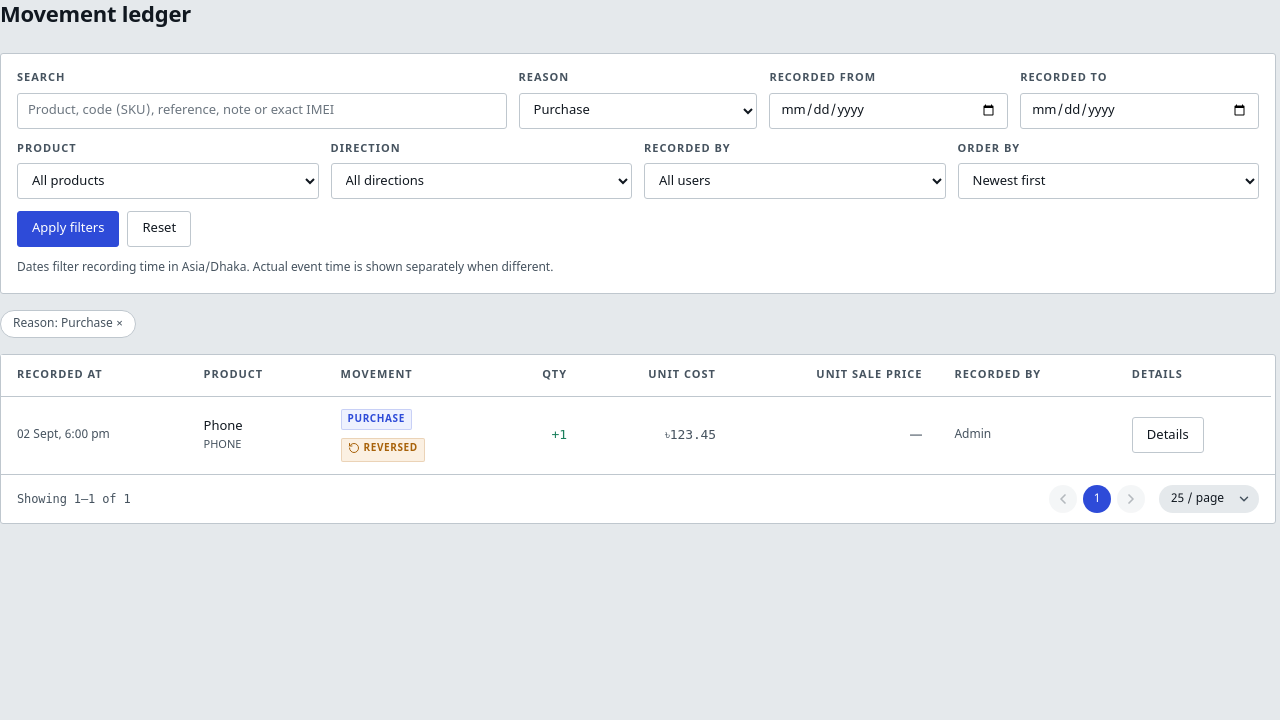
it: ledger filters and results › marks reversed originals in desktop, mobile and details even when the correction is filtered out
Expected: the table shows "reversed", [364,442,418,454]
Click the button "Details" at (1168, 435), box [1132,417,1204,453]
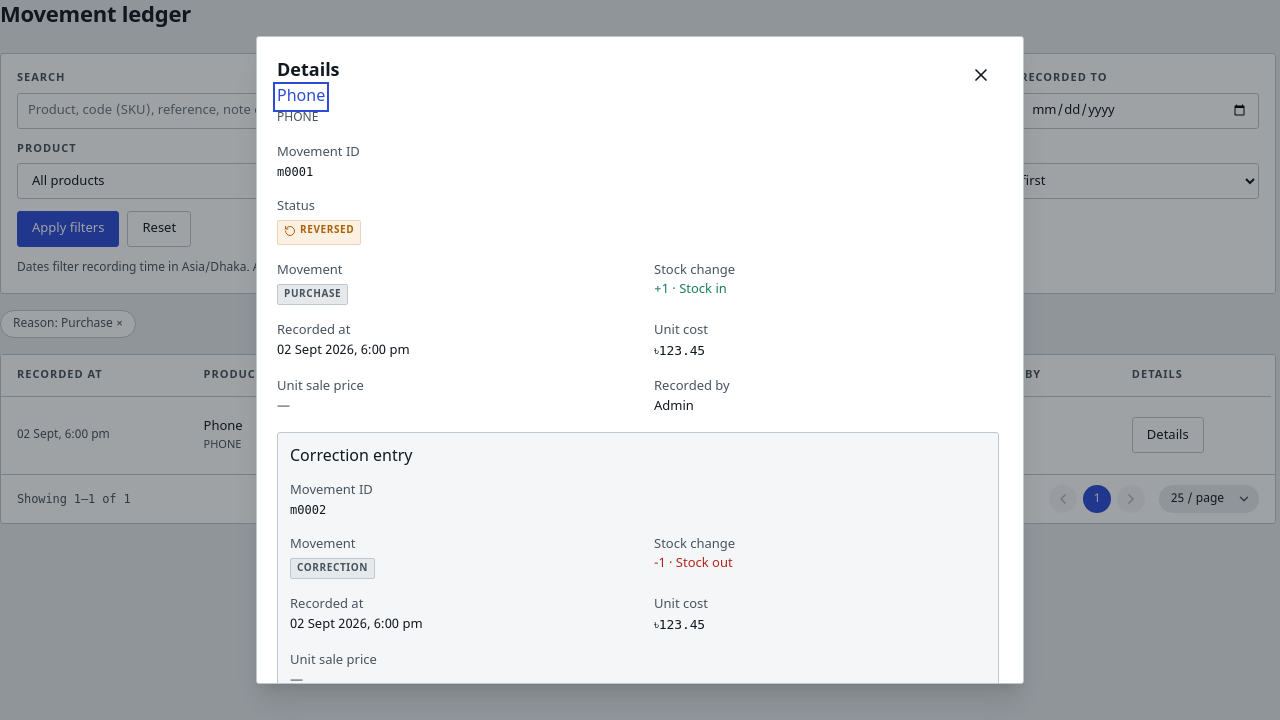
Expected: the dialog shows "reversed", [300,224,354,237]
Expected: the dialog shows "Correction entry", [290,446,412,468]
